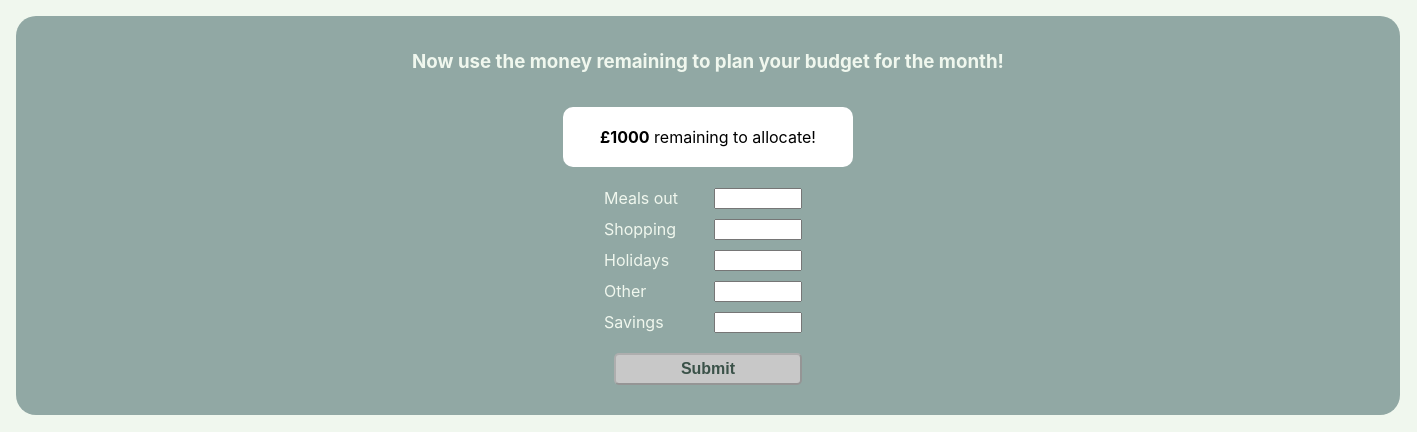
Scenario: BudgetPlan › updates remamining to be allocated when filling in the form
Type "100" into the number field with test id "meals-input" at point(758, 199), box [714,188,802,209]
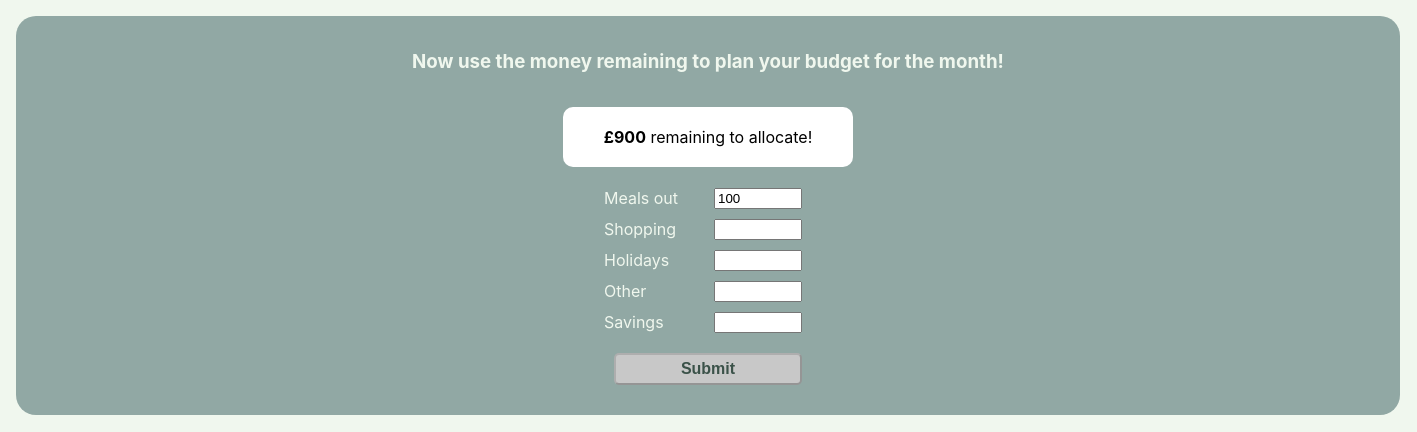
Expected: the text "remaining to allocate!" is shown, [646,127,812,147]
Expected: the text "£900" is shown, [604,127,646,147]
